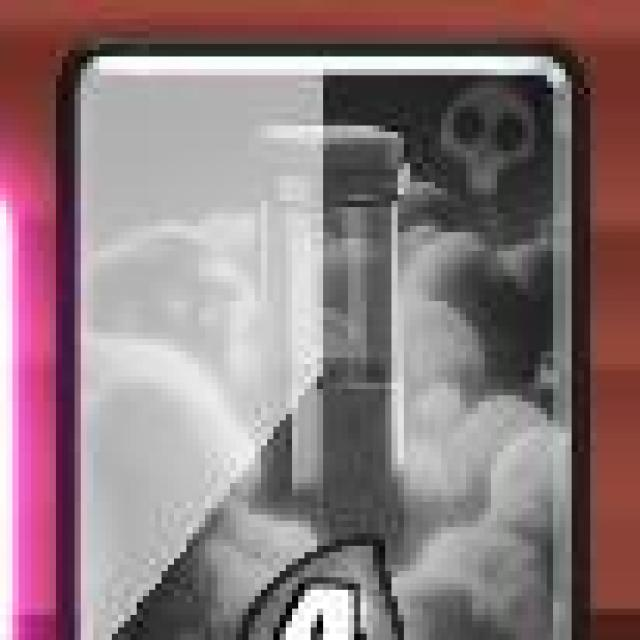Poison: (60, 50, 578, 640)
